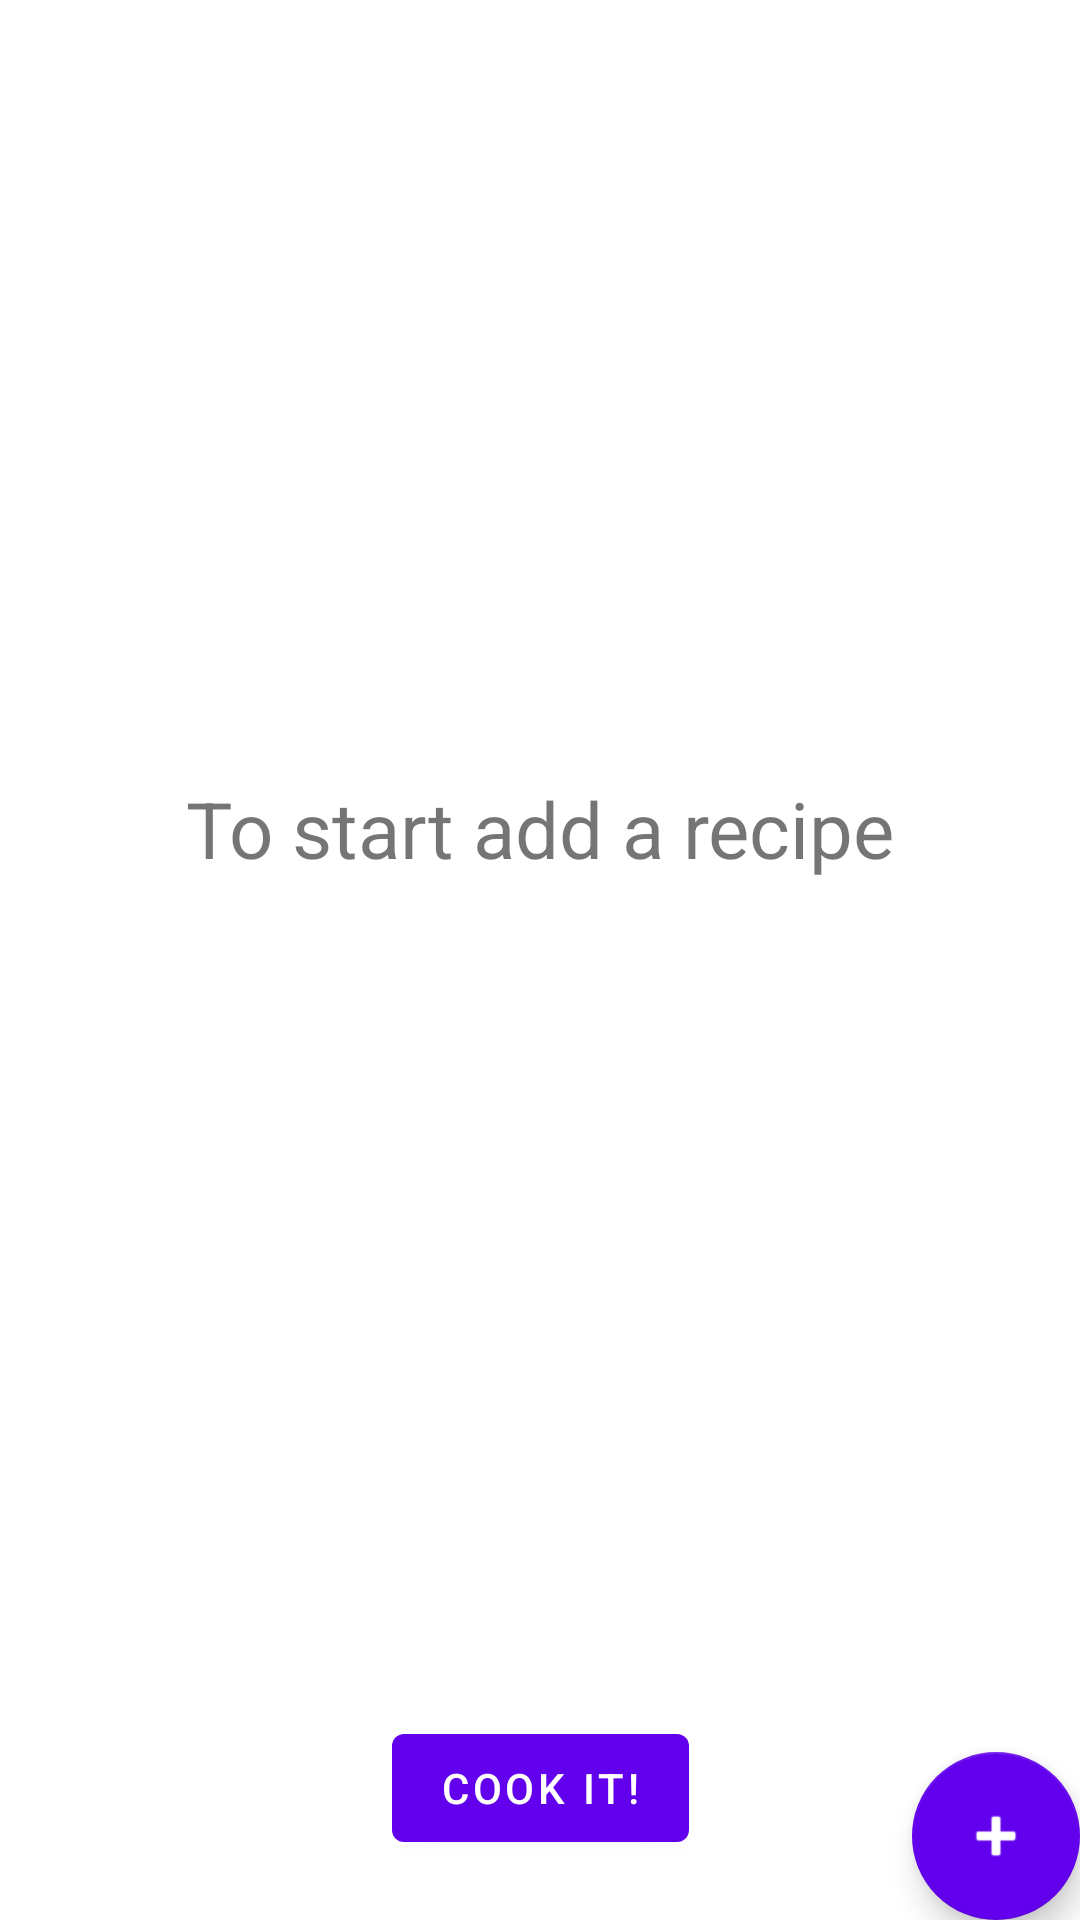

Named icons in this screenshot (1080×1920) and their bounding boxes, box(x1, y1, x2, y2):
Add existing recipe: box(912, 1752, 1080, 1920)
